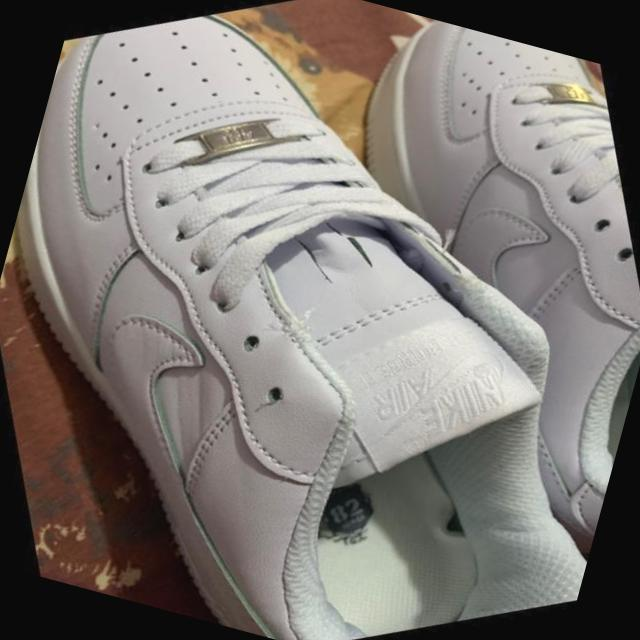nike_fake_airforce: (0, 0, 640, 640), (193, 0, 640, 632)
